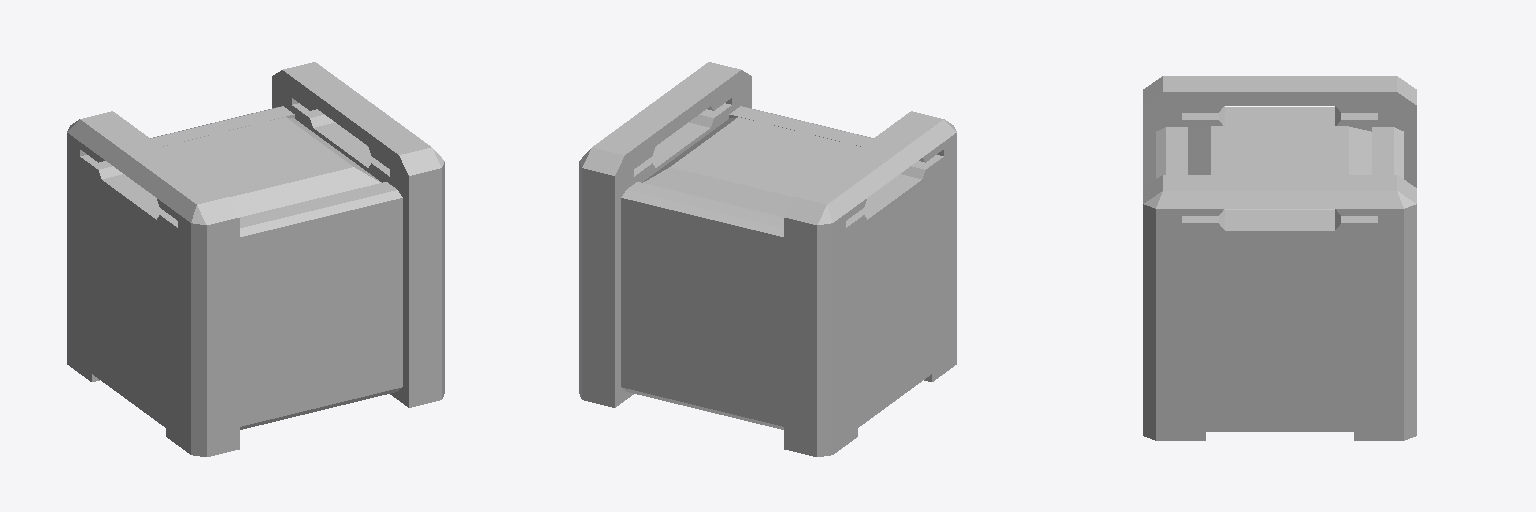
Rendered from crate.obj.
3 views of the same model, side by side, from view 1: azimuth 30°, elevation 25°; view 2: azimuth 150°, elevation 25°; view 3: azimuth 270°, elevation 25° (orthographic).
Parts seen in each view (by area): view 1: Life_Bonus; view 2: Life_Bonus; view 3: Life_Bonus.
Part boxes in pixels (left/top/right/bottom): Life_Bonus: left=67, top=62, right=444, bottom=456; Life_Bonus: left=579, top=62, right=956, bottom=456; Life_Bonus: left=1143, top=76, right=1416, bottom=440.
Size of the model in its own units: 1.18 by 1.09 by 1.1.